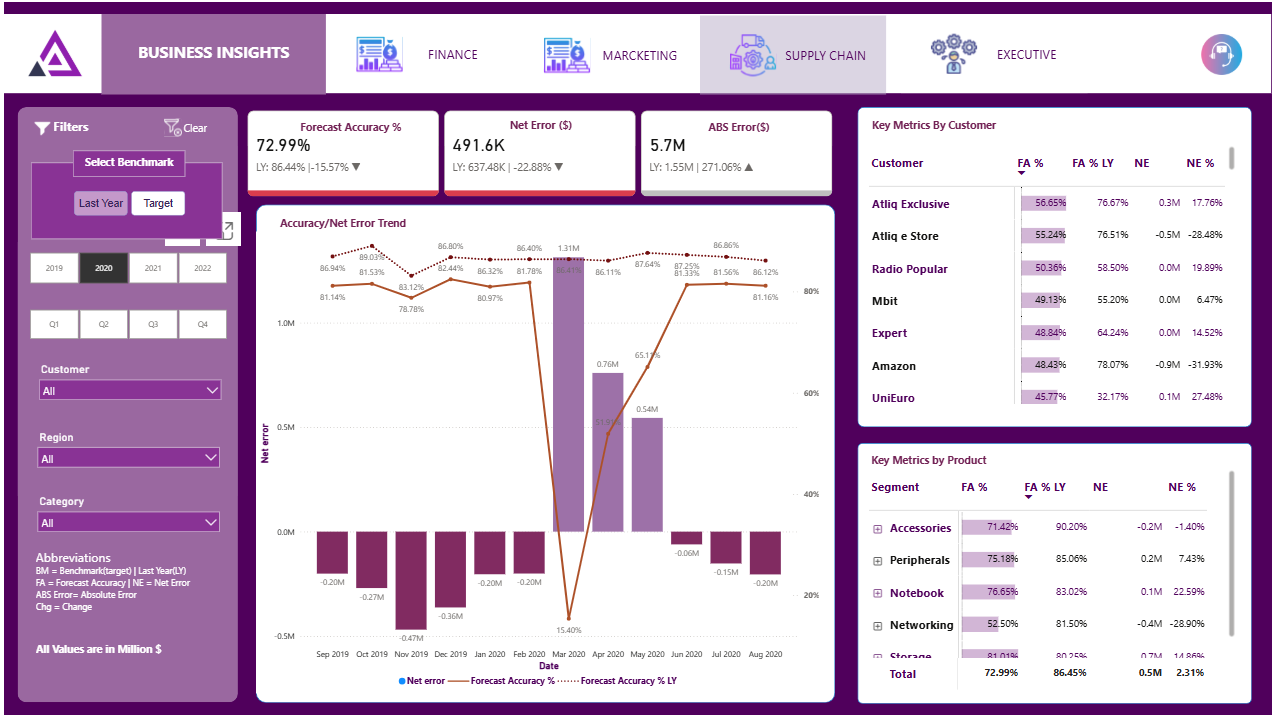

What the dashboard file says about the page in this screenshot:
{"tool":"powerbi","page":{"name":"Supply chain view","canvas":[1920,1080],"ordinal":3},"visuals":[{"type":"shape","box":[1292.5,667.5,597.5,395],"z":0},{"type":"shape","box":[1292.5,160,597.5,485],"z":1000},{"type":"shape","box":[382.5,307.5,877.5,755],"z":2000},{"type":"shape","box":[0,18,1920,120],"z":3000},{"type":"cardVisual","fields":{"Data":["P/L Measures.Forecast Accuracy %","P/L Measures.net error","P/L Measures.ABS Error"]},"box":[362.5,160,897.5,140],"z":4000},{"type":"pivotTable","fields":{"Values":["P/L Measures.Forecast Acuracy %","P/L Measures.Forecast Accuracy % LY","P/L Measures.net error","P/L Measures.Net Error%"],"Rows":["dim_customer.customer"]},"box":[1305,212.5,565,400],"z":5000},{"type":"lineStackedColumnComboChart","fields":{"Category":["dim_date.date"],"Y2":["P/L Measures.Forecast Accuracy %","P/L Measures.Forecast Accuracy % LY"],"Y":["P/L Measures.net error"]},"box":[382.5,347.5,857.5,700],"z":6000},{"type":"pivotTable","fields":{"Values":["P/L Measures.Forecast Acuracy %","P/L Measures.Forecast Accuracy % LY","P/L Measures.net error","P/L Measures.Net Error%"],"Rows":["dim_product.segment","dim_product.category","dim_product.product"]},"box":[1305,705,565,342.5],"z":7000},{"type":"textbox","box":[420,172.5,210,37.5],"z":8000},{"type":"textbox","box":[662.5,170,300,35],"z":9000},{"type":"textbox","box":[962.5,172.5,300,47.5],"z":10000},{"type":"textbox","box":[1260,170,300,60],"z":11000},{"type":"textbox","box":[1262.5,677.5,275,37.5],"z":12000},{"type":"textbox","box":[362.5,317.5,300,42.5],"z":13000},{"type":"shape","box":[20,160,334,902],"z":14000},{"type":"slicer","fields":{"Values":["fiscal_year.fiscal_year"]},"box":[14,372,348,60],"z":15000},{"type":"slicer","fields":{"Values":["dim_date.Quarter"]},"box":[14,460,348,58],"z":16000},{"type":"textbox","box":[62,170,80,42],"z":17000},{"type":"slicer","fields":{"Values":["dim_market.region"]},"box":[42,644,296,80],"z":18000},{"type":"slicer","fields":{"Values":["dim_customer.customer"]},"box":[44,540,296,72],"z":19000},{"type":"slicer","fields":{"Values":["dim_product.category"]},"box":[42,740,296,70],"z":20000},{"type":"textbox","box":[44,822,290,142],"z":21000},{"type":"textbox","box":[44,964,240,70],"z":22000},{"type":"image","box":[42,170,34,42],"z":23000},{"type":"textbox","box":[42,244,290,116],"z":24000},{"type":"textbox","box":[104,224,170,40],"z":25000},{"type":"ChicletSlicer1448559807354","fields":{"Category":["Comparision.Mode"]},"box":[98,278,184,58],"z":26000},{"type":"actionButton","box":[237.5,172.5,102.5,35],"z":27000},{"type":"image","box":[20,26,114,104],"z":28000},{"type":"textbox","box":[148,18,340,122],"z":29000},{"type":"actionButton","box":[488,18,284,122],"z":30000},{"type":"actionButton","box":[772.5,20,282.5,120],"z":31000},{"type":"actionButton","box":[1054,20,282,120],"z":32000},{"type":"actionButton","box":[1360,18,282,120],"z":33000},{"type":"image","box":[1800,42.5,90,72.5],"z":34000}]}

Visuals, with their boxes in screenshot pixels (x1, y1, x2, y2), scaled from the page's 1920x1080 canvas onto the 1273x718 screenshot:
shape: box(857, 444, 1253, 706)
shape: box(857, 106, 1253, 429)
shape: box(254, 204, 835, 706)
shape: box(0, 12, 1272, 92)
cardVisual - P/L Measures.Forecast Accuracy % x P/L Measures.net error: box(240, 106, 835, 199)
pivotTable - P/L Measures.Forecast Acuracy % x P/L Measures.Forecast Accuracy % LY: box(865, 141, 1240, 407)
lineStackedColumnComboChart - dim_date.date x P/L Measures.Forecast Accuracy %: box(254, 231, 822, 696)
pivotTable - P/L Measures.Forecast Acuracy % x P/L Measures.Forecast Accuracy % LY: box(865, 469, 1240, 696)
textbox: box(278, 115, 418, 140)
textbox: box(439, 113, 638, 136)
textbox: box(638, 115, 837, 146)
textbox: box(835, 113, 1034, 153)
textbox: box(837, 450, 1019, 475)
textbox: box(240, 211, 439, 239)
shape: box(13, 106, 235, 706)
slicer - fiscal_year.fiscal_year: box(9, 247, 240, 287)
slicer - dim_date.Quarter: box(9, 306, 240, 344)
textbox: box(41, 113, 94, 141)
slicer - dim_market.region: box(28, 428, 224, 481)
slicer - dim_customer.customer: box(29, 359, 225, 407)
slicer - dim_product.category: box(28, 492, 224, 538)
textbox: box(29, 546, 221, 641)
textbox: box(29, 641, 188, 687)
image: box(28, 113, 50, 141)
textbox: box(28, 162, 220, 239)
textbox: box(69, 149, 182, 176)
ChicletSlicer1448559807354 - Comparision.Mode: box(65, 185, 187, 223)
actionButton: box(157, 115, 225, 138)
image: box(13, 17, 89, 86)
textbox: box(98, 12, 324, 93)
actionButton: box(324, 12, 512, 93)
actionButton: box(512, 13, 699, 93)
actionButton: box(699, 13, 886, 93)
actionButton: box(902, 12, 1089, 92)
image: box(1193, 28, 1253, 76)
